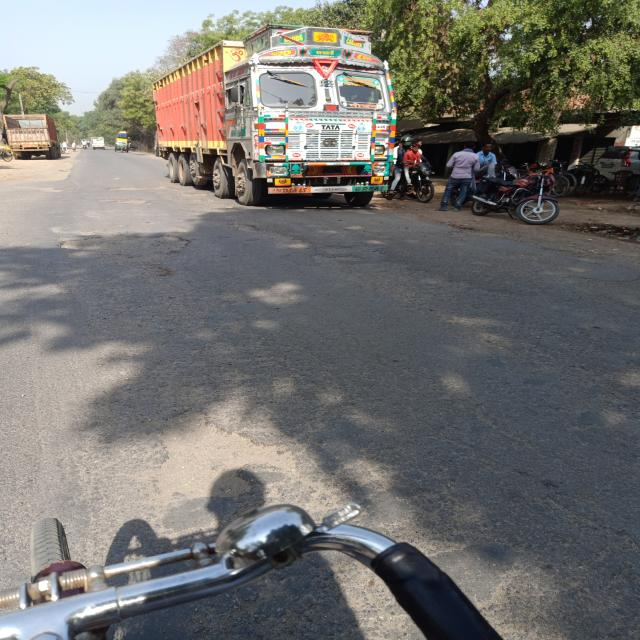Autorickshaw: (110, 135, 136, 158)
Bike: (470, 172, 561, 225), (395, 163, 436, 203), (493, 160, 517, 185)
Car: (593, 148, 640, 176)
Truck: (134, 34, 421, 216), (0, 99, 60, 162)
tempo: (90, 135, 106, 152)
